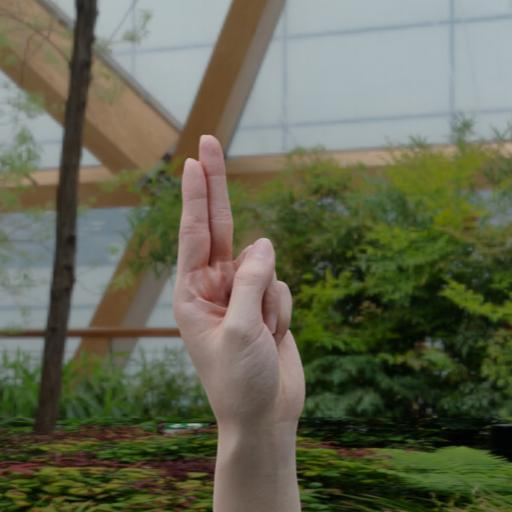U: (160, 127, 317, 512)
